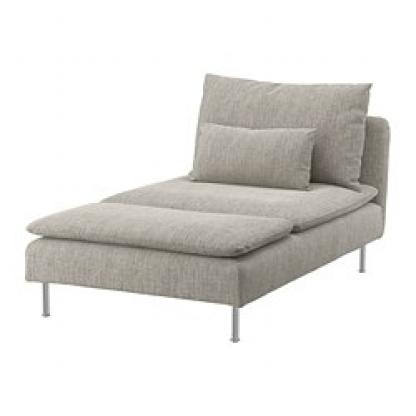Sofa: (17, 45, 389, 356)
